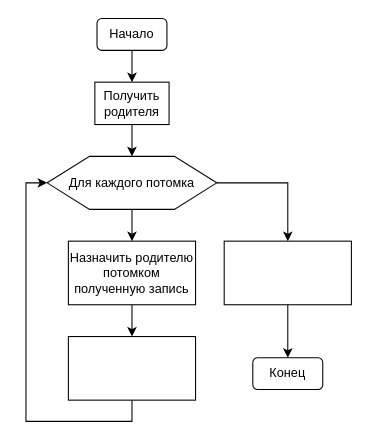
This 370x448 diagram has some shape labels left out. The shapes that lost their labels are listed below. From the top down, each one's centre as x and y in pixels, then its label:
(287,272): Удалить переданную запись у ее родителя
(131,367): Назначить записи родителя
